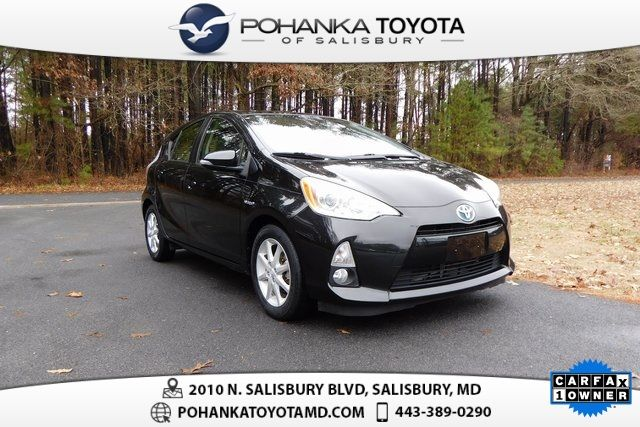Toyota Prius: (139, 109, 518, 324)
